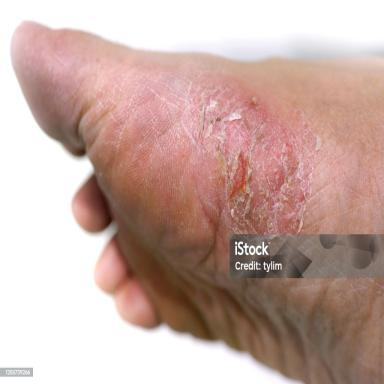eczema: (192, 81, 320, 234)
